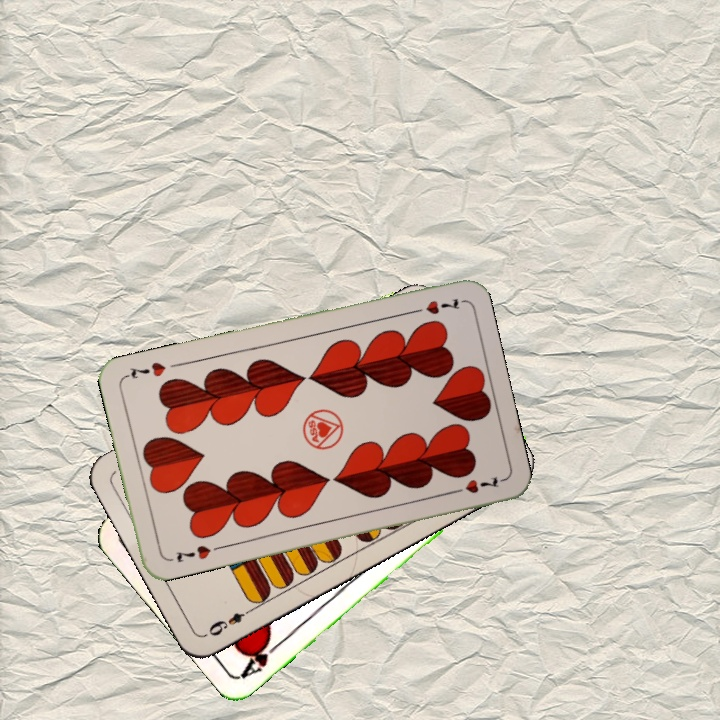E9: (204, 603, 256, 639)
H7: (406, 294, 464, 317), (171, 541, 213, 565)
HA: (237, 633, 286, 681)
